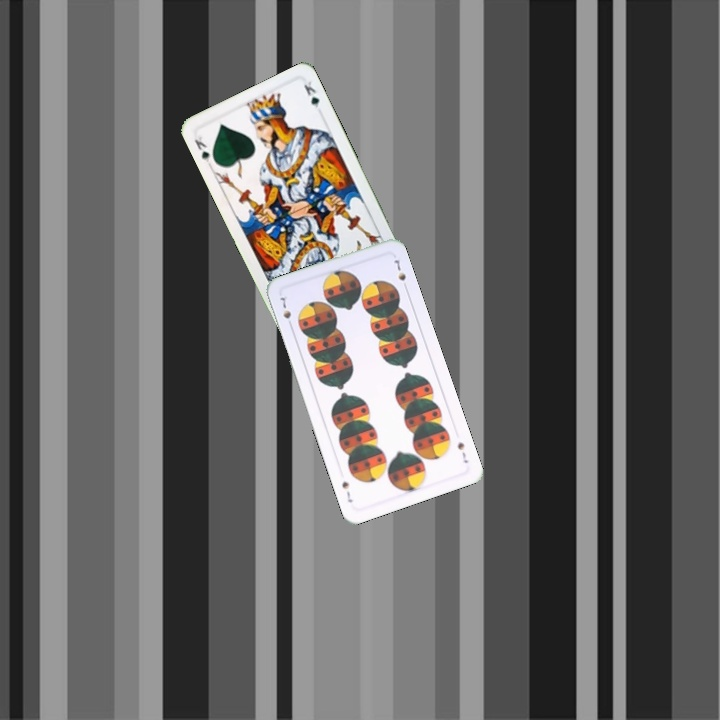GK: (190, 132, 212, 165)
S7: (276, 293, 295, 331), (453, 437, 471, 466)
